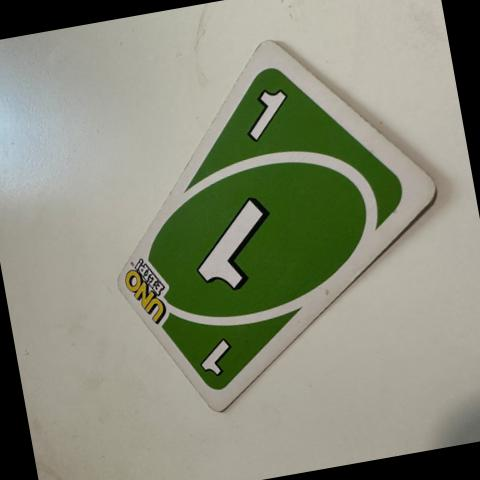7_yellow: (198, 198, 276, 293), (247, 86, 288, 141), (199, 337, 232, 377)
